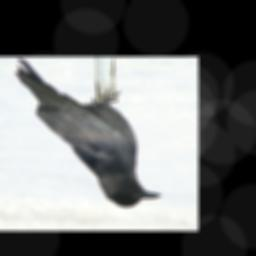Crow: (14, 57, 163, 208)
